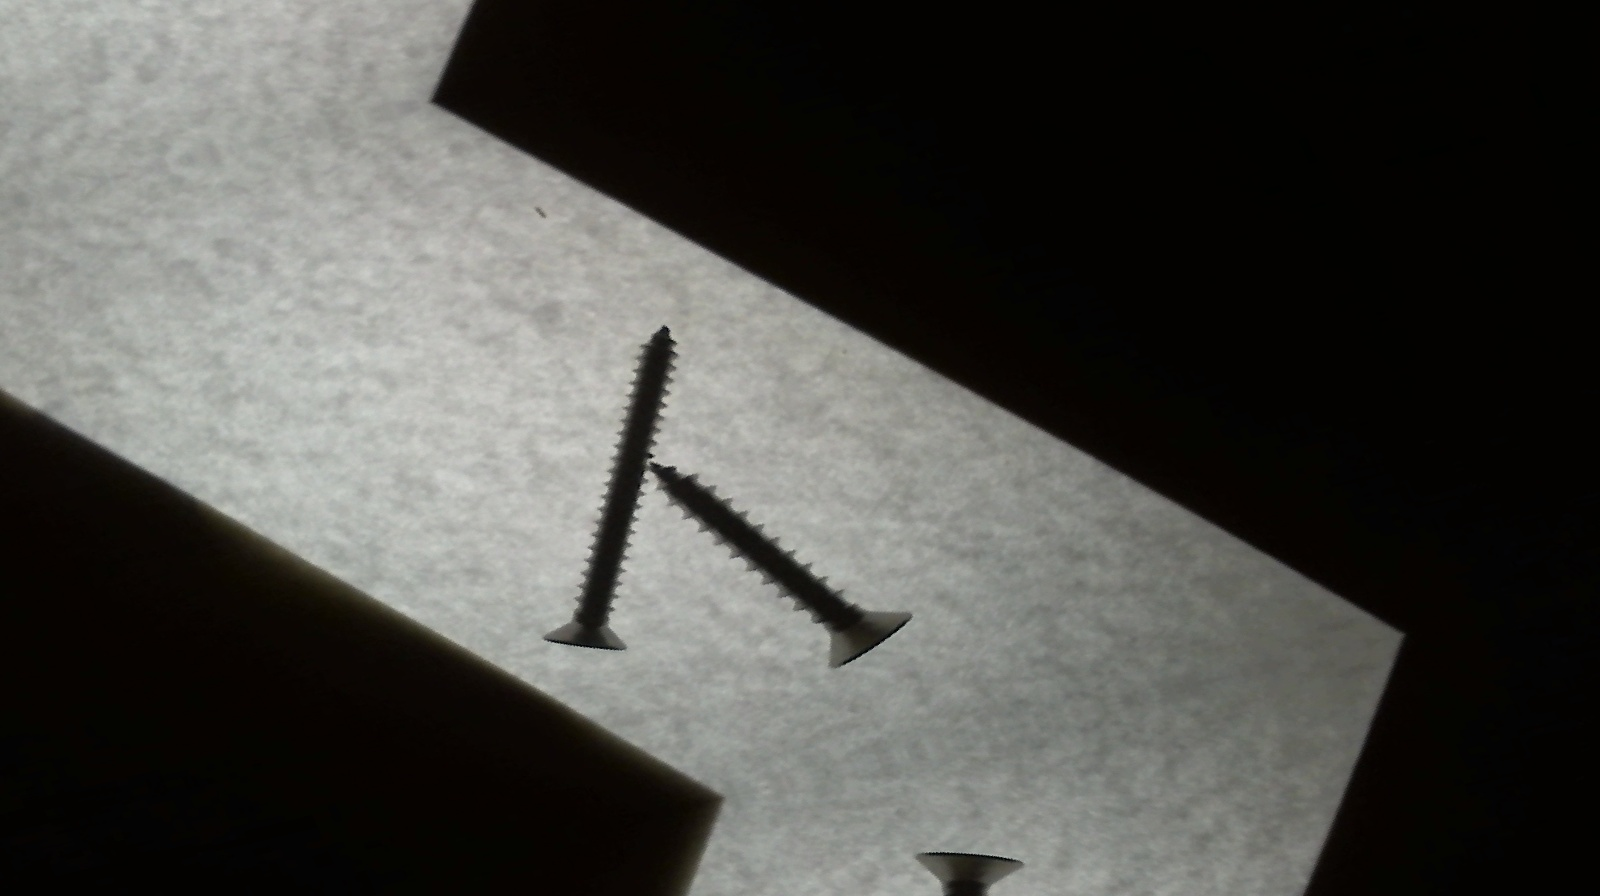S001: (649, 413, 942, 693)
S002: (424, 318, 801, 667)
